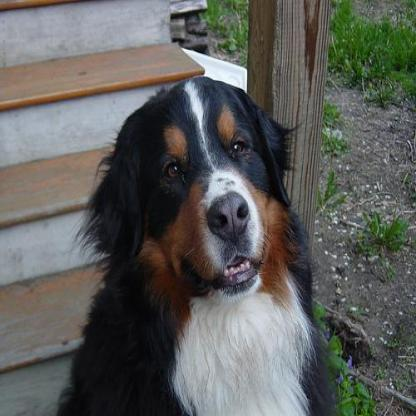Bernese_mountain_dog: (58, 74, 344, 414)
